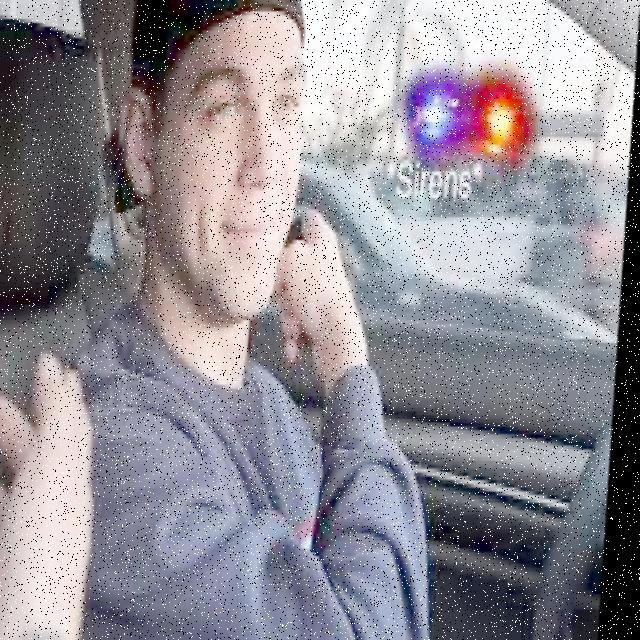noSeatbelt: (49, 301, 382, 640)
